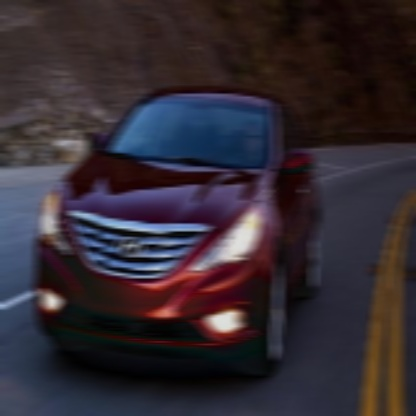Vehicle: (32, 78, 322, 368)
